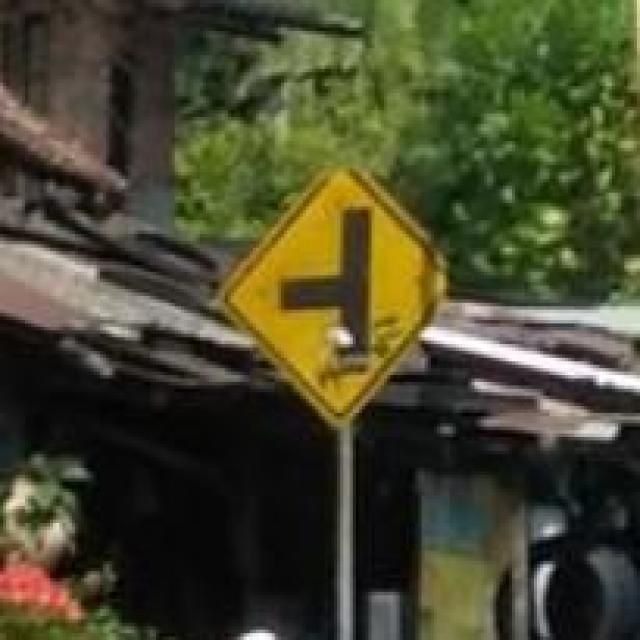traffic sign: (228, 165, 434, 420)
